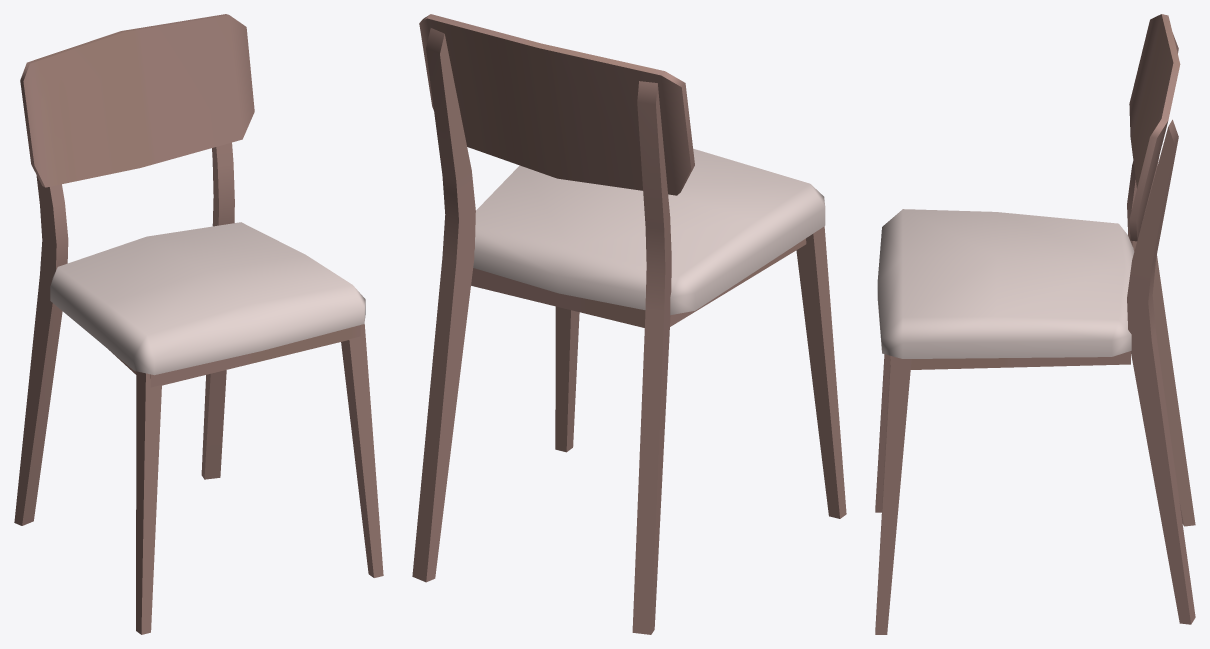
The model's file is kitchen_chair_030.glb.
3 renders of one model, left to right at view 1: azimuth 30°, elevation 25°; view 2: azimuth 150°, elevation 25°; view 3: azimuth 270°, elevation 25°, orthographic. The views are drawn at different scales.
Parts seen in each view (by area): view 1: kitchen_chair_030; view 2: kitchen_chair_030; view 3: kitchen_chair_030.
Part boxes in pixels (x1,y1,x2,y2): kitchen_chair_030: (14, 14, 383, 634); kitchen_chair_030: (412, 14, 846, 634); kitchen_chair_030: (875, 14, 1195, 634).
Size of the model in its own units: 0.4639 by 0.8645 by 0.4935.
1 material, 1 textured.
